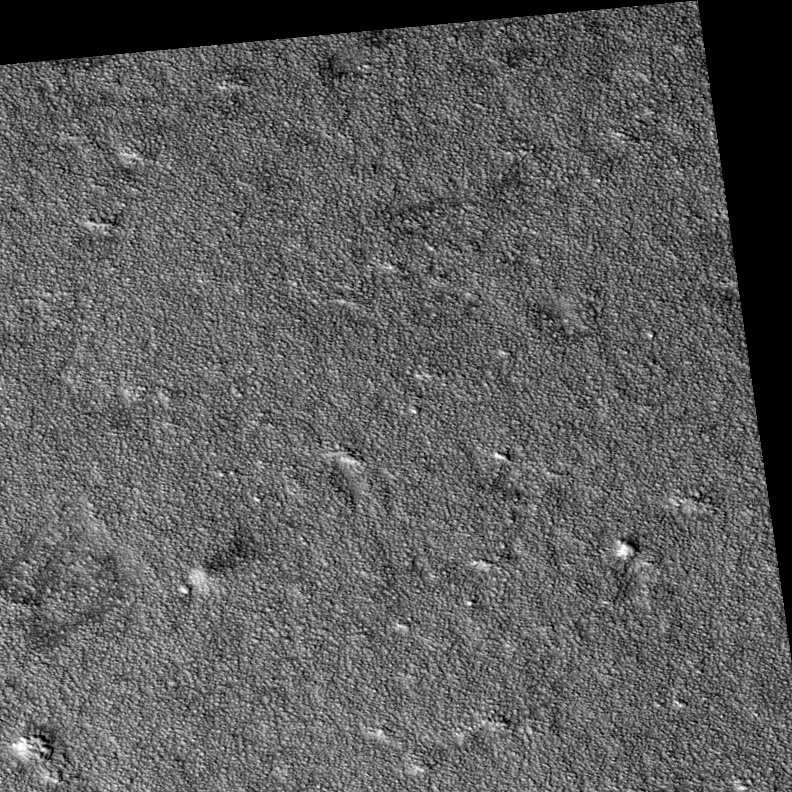dust_devil: (187, 526, 255, 595)
